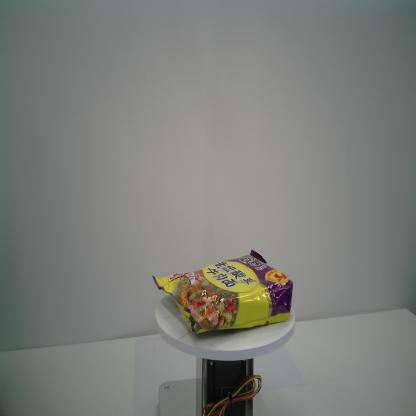Instant Noodles: (150, 248, 296, 336)
